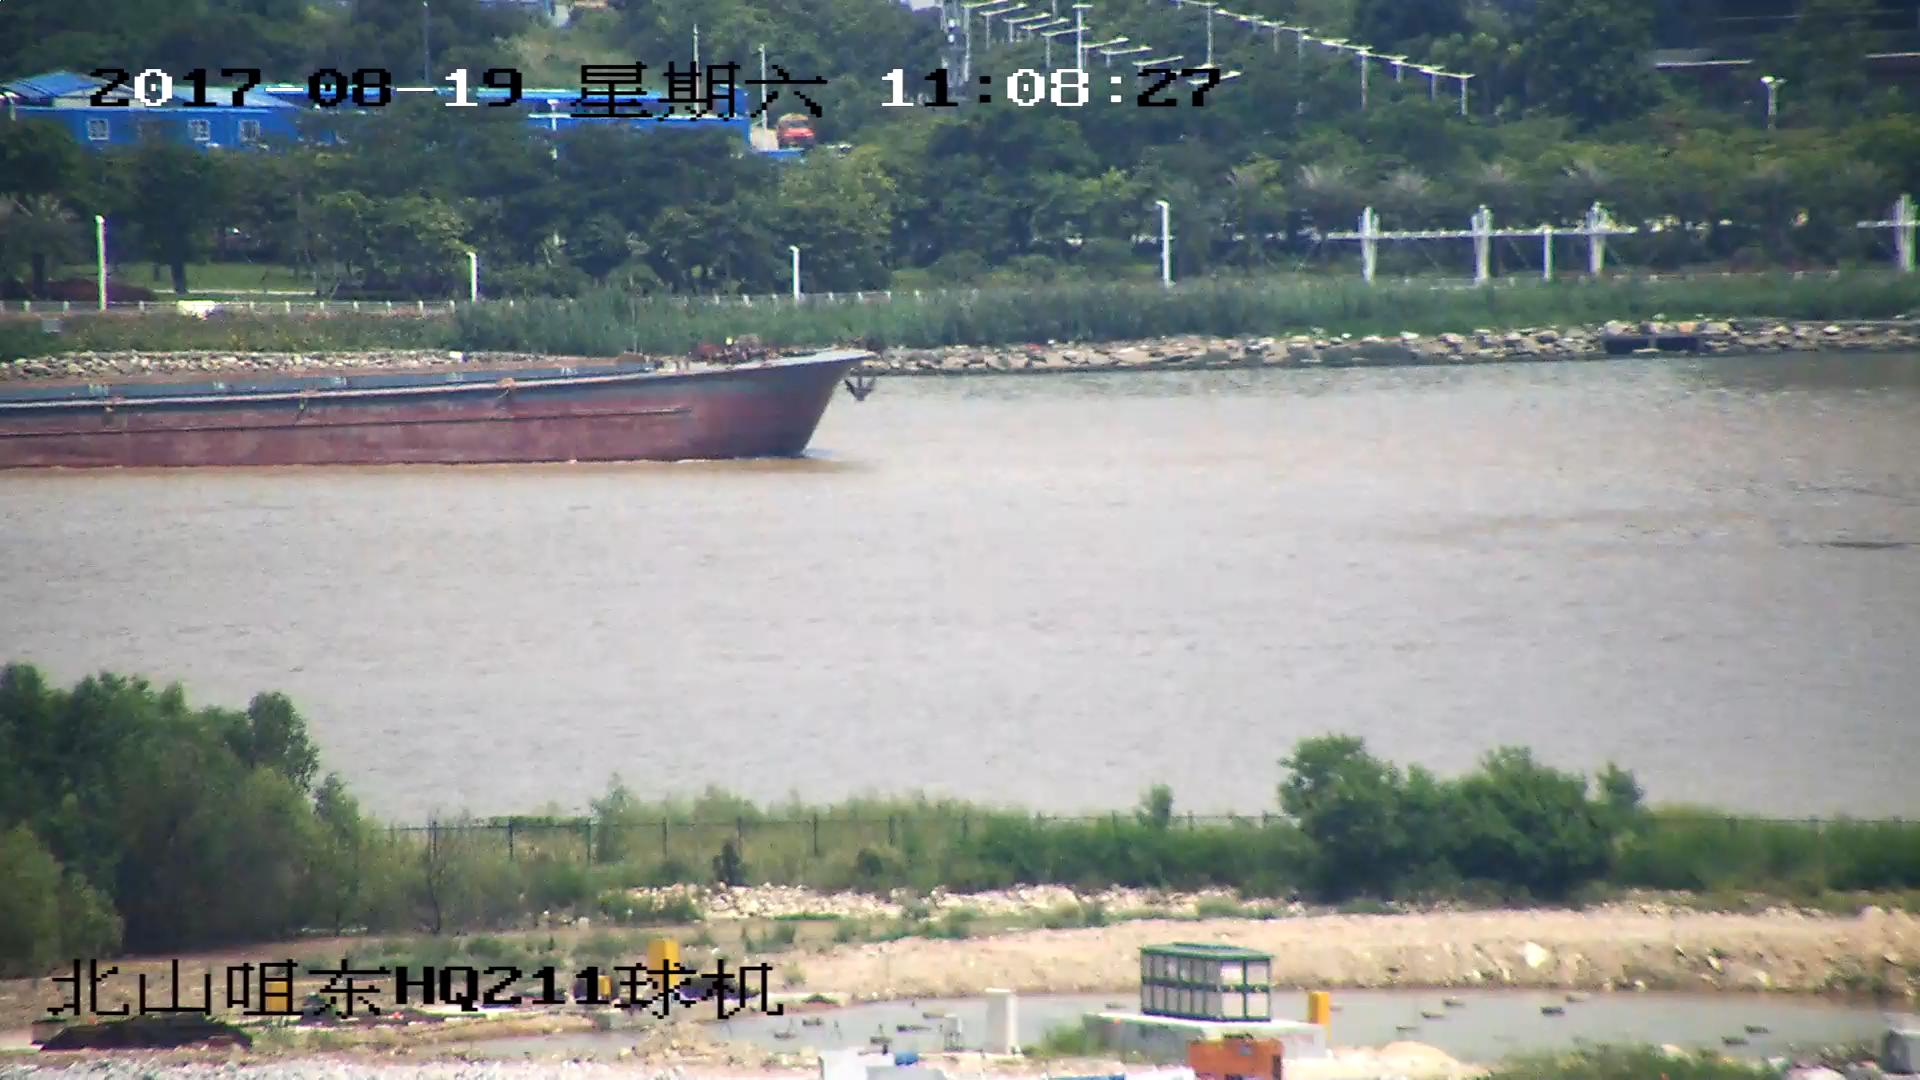bulk cargo carrier: (1, 330, 877, 461)
